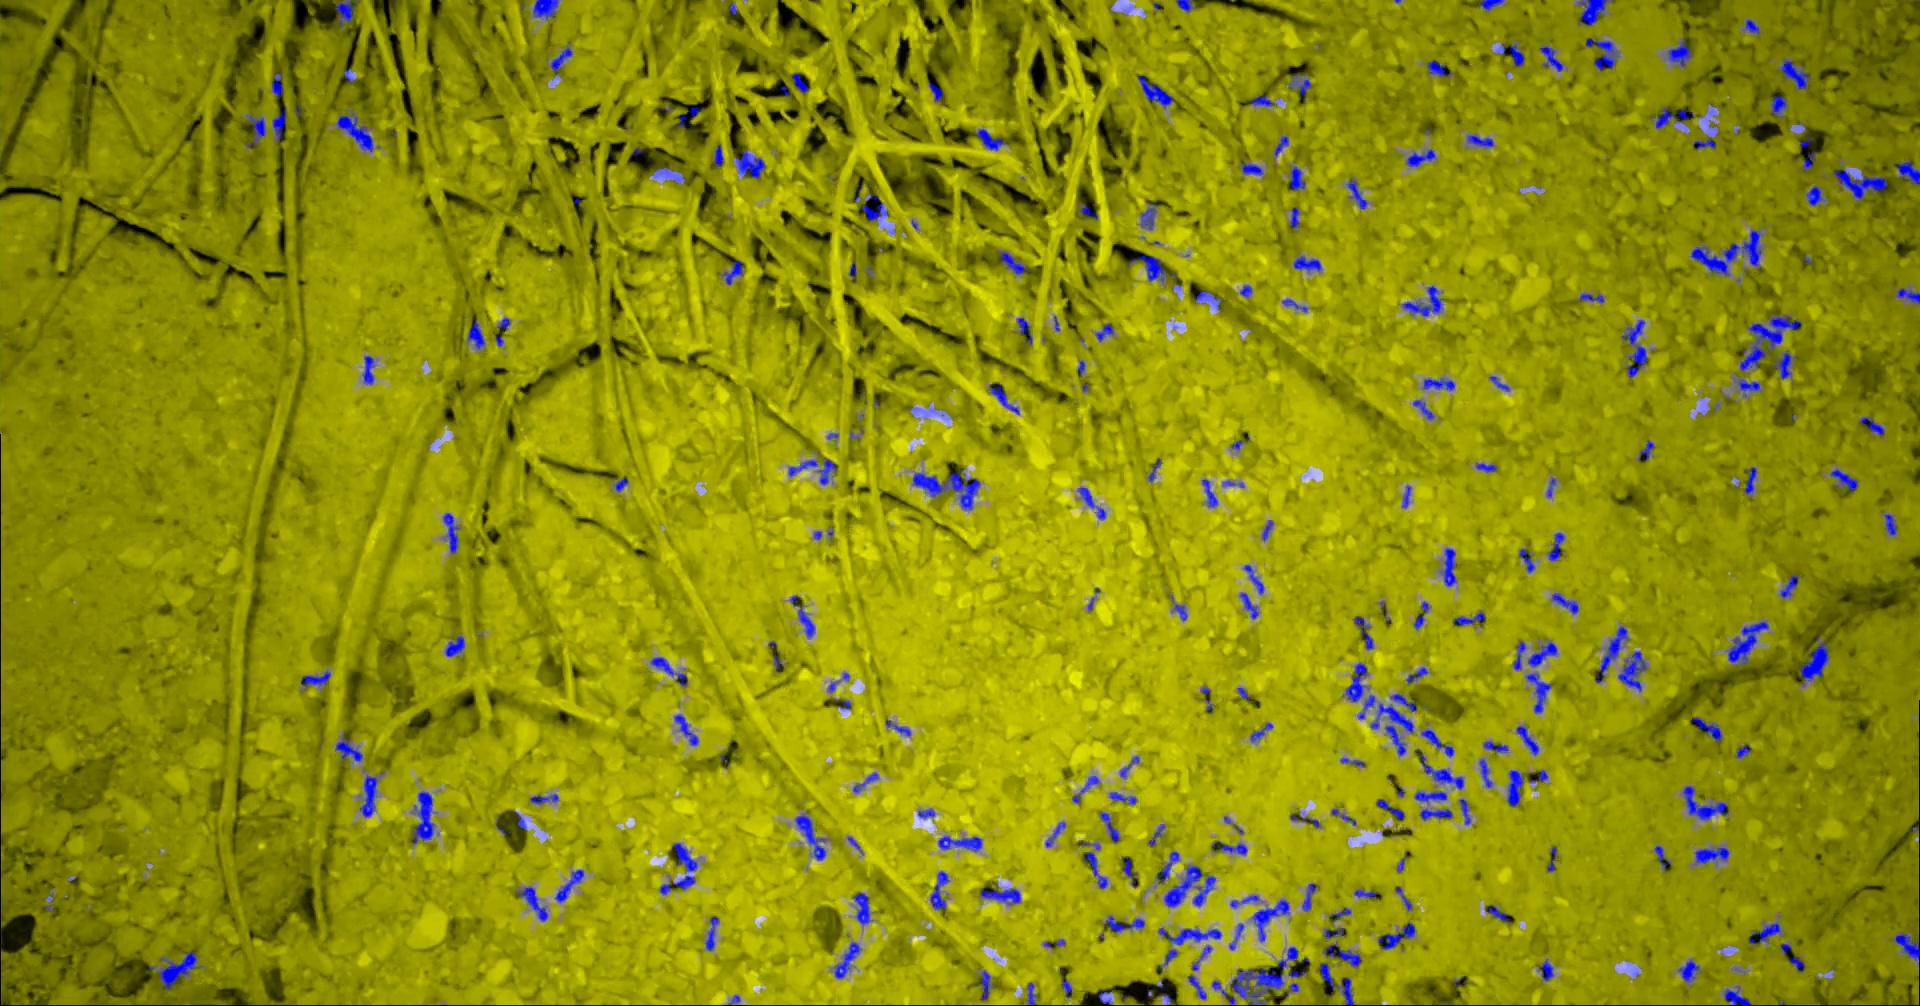ant: (912, 469, 980, 509), (1370, 694, 1416, 754), (1163, 865, 1215, 907), (659, 842, 697, 894), (1415, 748, 1463, 789), (1594, 625, 1627, 682), (1727, 620, 1768, 664), (156, 951, 201, 989), (1832, 169, 1887, 199), (1683, 785, 1728, 821), (337, 109, 373, 151), (1252, 899, 1289, 941), (1622, 319, 1647, 377), (1318, 962, 1352, 1005), (1799, 636, 1829, 683), (795, 814, 825, 859), (1401, 285, 1443, 316), (1137, 74, 1172, 108), (411, 791, 434, 843), (1617, 650, 1646, 691), (649, 655, 687, 686), (1585, 37, 1619, 70), (516, 887, 547, 921), (1157, 927, 1222, 944), (1777, 57, 1810, 89), (1128, 254, 1164, 282), (1377, 922, 1415, 949), (1342, 662, 1368, 701), (1525, 673, 1550, 713), (554, 869, 583, 902), (1082, 851, 1107, 888), (1323, 941, 1360, 967), (1650, 105, 1693, 127), (989, 382, 1018, 414), (1077, 486, 1105, 520), (1420, 729, 1453, 757), (734, 149, 764, 178), (1577, 0, 1611, 25), (834, 942, 858, 978), (673, 714, 698, 746), (1070, 775, 1098, 803), (1893, 934, 1919, 964), (930, 870, 949, 909), (861, 193, 888, 221), (334, 734, 362, 761), (359, 774, 377, 815), (1666, 38, 1691, 67), (1691, 716, 1721, 742), (998, 251, 1030, 274), (1156, 850, 1178, 882), (1103, 915, 1144, 932), (938, 835, 982, 851), (1528, 641, 1557, 666), (1749, 922, 1780, 944), (245, 114, 265, 147), (442, 512, 458, 553), (1352, 616, 1373, 649), (979, 888, 1020, 904), (1515, 725, 1538, 754), (1242, 564, 1263, 594), (1288, 72, 1310, 100), (1771, 351, 1794, 379), (550, 42, 571, 71), (975, 128, 1004, 150), (1346, 179, 1368, 208), (1506, 768, 1523, 807), (1098, 812, 1119, 842), (1497, 43, 1524, 66), (1830, 467, 1857, 490), (1550, 592, 1578, 614), (1375, 799, 1404, 819), (1211, 981, 1236, 1005), (1539, 46, 1562, 71), (1044, 821, 1065, 847), (1723, 984, 1751, 1005), (852, 892, 870, 923), (1896, 160, 1919, 184), (1735, 375, 1760, 396), (334, 0, 354, 27), (1194, 290, 1222, 309), (1441, 547, 1455, 586), (797, 605, 814, 636), (1694, 847, 1728, 862), (1406, 149, 1435, 166), (721, 259, 742, 285), (1191, 945, 1211, 970), (818, 457, 837, 484), (1239, 592, 1258, 619), (467, 318, 484, 348), (1451, 610, 1484, 625), (789, 459, 817, 476), (1547, 532, 1564, 560), (272, 105, 284, 144), (852, 772, 877, 791), (703, 916, 717, 950), (678, 105, 700, 127), (1677, 959, 1699, 981), (300, 669, 330, 685), (1119, 754, 1139, 777), (1121, 856, 1137, 887), (1418, 807, 1451, 821), (1779, 573, 1798, 597), (1187, 974, 1206, 998), (532, 0, 557, 18), (1426, 58, 1451, 76), (1859, 417, 1884, 434), (1357, 694, 1375, 719), (1250, 721, 1272, 741), (1211, 841, 1246, 854), (1288, 166, 1305, 191), (1331, 808, 1355, 826), (1293, 255, 1321, 271), (1201, 478, 1217, 506), (1413, 601, 1429, 629), (1289, 813, 1319, 827), (885, 719, 910, 735), (1412, 399, 1432, 419), (1404, 666, 1427, 683), (1517, 547, 1534, 572), (980, 970, 994, 998), (1140, 203, 1156, 229), (444, 635, 463, 655), (1655, 845, 1670, 870), (1228, 923, 1243, 949), (1147, 823, 1164, 845), (1896, 287, 1919, 304), (1537, 958, 1553, 981), (1017, 318, 1031, 344), (1302, 883, 1316, 909), (362, 354, 375, 384), (1804, 185, 1823, 205), (1415, 790, 1446, 801), (790, 72, 808, 93), (1637, 439, 1655, 460), (1486, 904, 1507, 921), (1465, 133, 1493, 146), (1743, 466, 1756, 494), (1512, 641, 1525, 669), (1109, 791, 1137, 804), (1423, 379, 1454, 390), (1396, 887, 1411, 909), (1458, 798, 1470, 824), (1158, 949, 1177, 967), (927, 81, 943, 102), (1229, 895, 1258, 907), (1770, 94, 1785, 116), (1272, 135, 1288, 156), (1147, 459, 1161, 481), (1479, 760, 1491, 788), (1095, 323, 1112, 340), (270, 72, 283, 97), (1691, 136, 1716, 149), (1283, 298, 1307, 311), (1250, 94, 1276, 105), (1079, 202, 1097, 218), (1239, 161, 1262, 174), (1490, 375, 1509, 390), (1200, 686, 1211, 711), (1483, 741, 1509, 752), (530, 793, 557, 803), (1330, 907, 1350, 921), (1578, 292, 1603, 304), (1883, 513, 1896, 535), (1801, 152, 1815, 171), (1545, 846, 1556, 871), (1479, 0, 1503, 10), (1743, 18, 1759, 33), (712, 144, 723, 166), (1026, 982, 1036, 1005), (1788, 956, 1804, 970), (1338, 757, 1364, 766), (1529, 768, 1547, 781), (1289, 206, 1299, 227), (1173, 605, 1187, 620), (1476, 462, 1496, 473), (1262, 520, 1272, 540), (1323, 927, 1343, 937), (1175, 0, 1192, 11), (1354, 888, 1377, 897), (1043, 939, 1065, 948), (613, 478, 627, 492), (1735, 744, 1750, 757), (1401, 485, 1410, 507), (917, 808, 935, 818), (1062, 979, 1070, 997), (1239, 285, 1251, 297)
